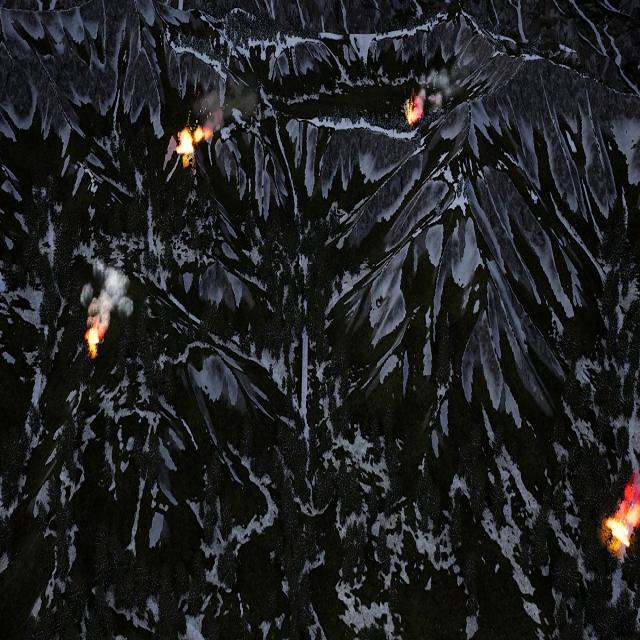fire: (196, 80, 256, 136), (607, 500, 640, 550), (175, 125, 211, 168), (86, 327, 100, 357), (408, 97, 422, 122)
smoke: (80, 258, 134, 330), (416, 68, 457, 110), (617, 471, 640, 516)
